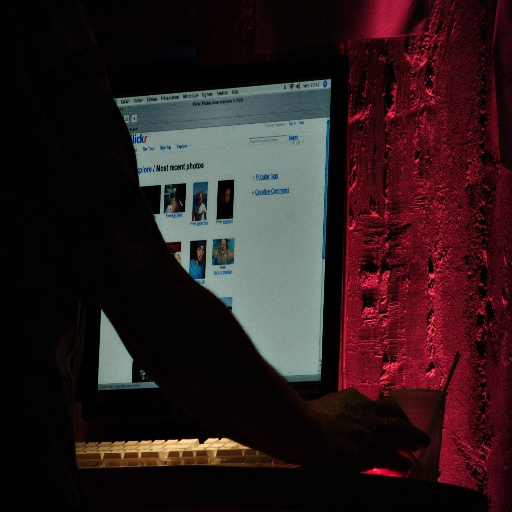hand: (305, 383, 429, 471)
